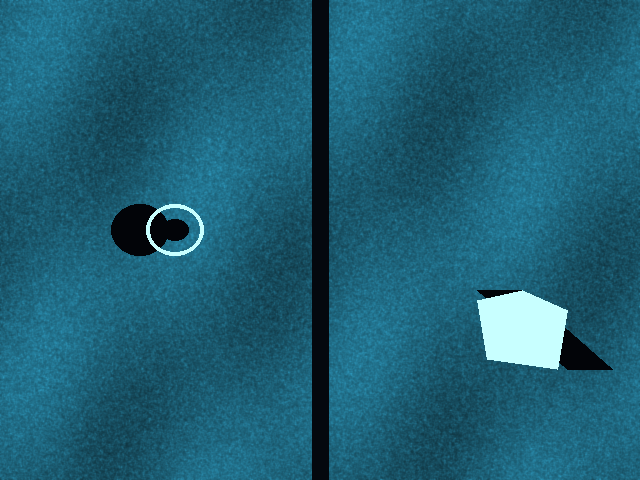Tire: (146, 204, 203, 255)
Unknown Debris: (477, 290, 567, 369)
